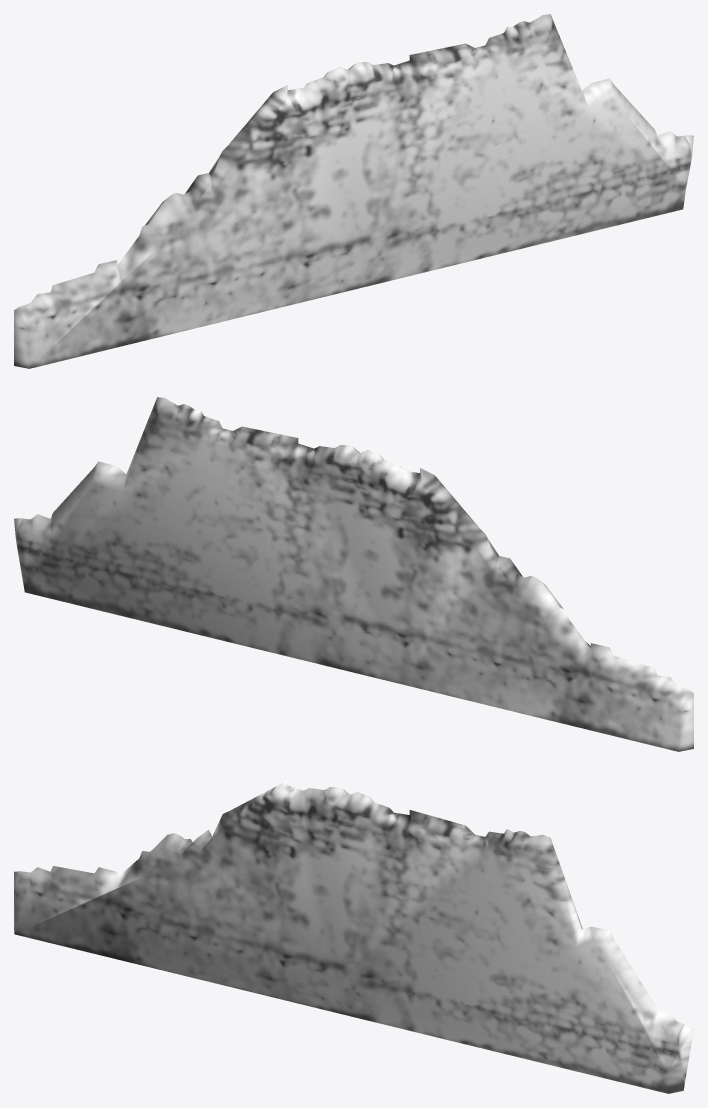
File: Ruins_BigWall012.fbx
The picture shows the model from 3 angles, top to bottom: view 1: azimuth 30°, elevation 25°; view 2: azimuth 150°, elevation 25°; view 3: azimuth 330°, elevation 25°; orthographic projection.
Visible parts, largest first — view 1: Ruins_BigWall012; view 2: Ruins_BigWall012; view 3: Ruins_BigWall012.
Boxes of the visible parts, x1=… form: Ruins_BigWall012: x1=14, y1=14, x2=693, y2=368; Ruins_BigWall012: x1=14, y1=397, x2=693, y2=751; Ruins_BigWall012: x1=14, y1=780, x2=693, y2=1093.
Size of the model in its own units: 1134 by 353 by 60.02.
